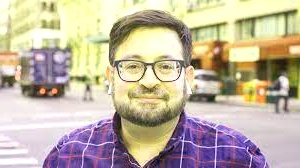earphone: (184, 66, 196, 98), (106, 64, 114, 95)
